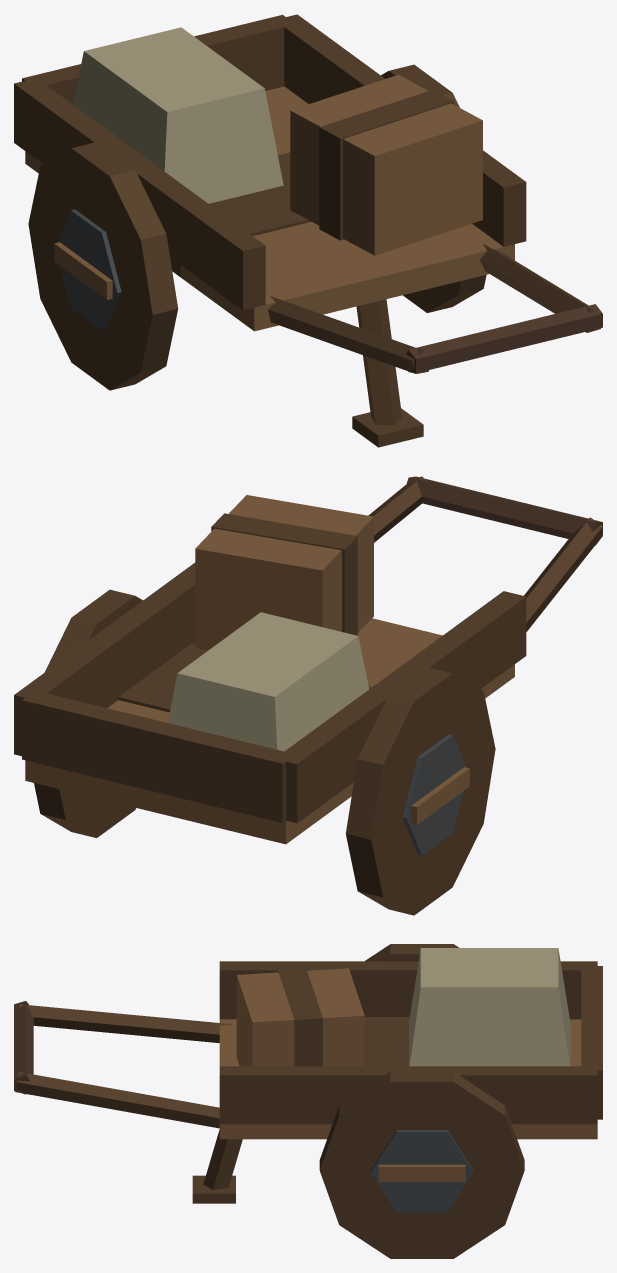
Rendered from vehicle_handcart.glb.
The picture shows the model from 3 angles, top to bottom: view 1: azimuth 30°, elevation 25°; view 2: azimuth 150°, elevation 25°; view 3: azimuth 270°, elevation 25°; orthographic projection. The views are drawn at different scales.
Parts seen in each view (by area): view 1: body, wheel_r, wheel_l; view 2: body, wheel_r, wheel_l; view 3: body, wheel_l, wheel_r.
Boxes of the visible parts, box(x1,y1,x2,y2) form: body: box(14, 14, 602, 447); wheel_r: box(28, 142, 178, 390); wheel_l: box(381, 64, 486, 312); body: box(14, 476, 602, 844); wheel_r: box(345, 667, 495, 915); wheel_l: box(34, 589, 142, 837); body: box(14, 948, 602, 1203); wheel_l: box(319, 1072, 524, 1258); wheel_r: box(365, 944, 459, 961).
Bounding box in the file's own units: 1.28 × 0.9126 × 2.18.
